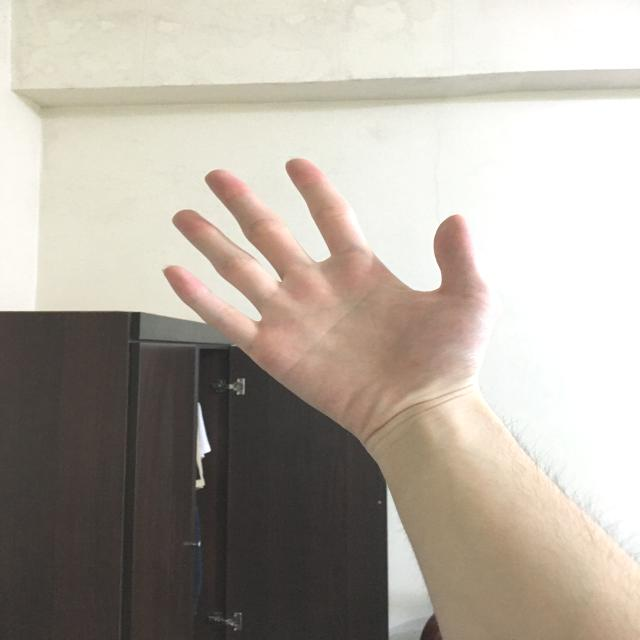no_glove: (153, 140, 510, 462)
